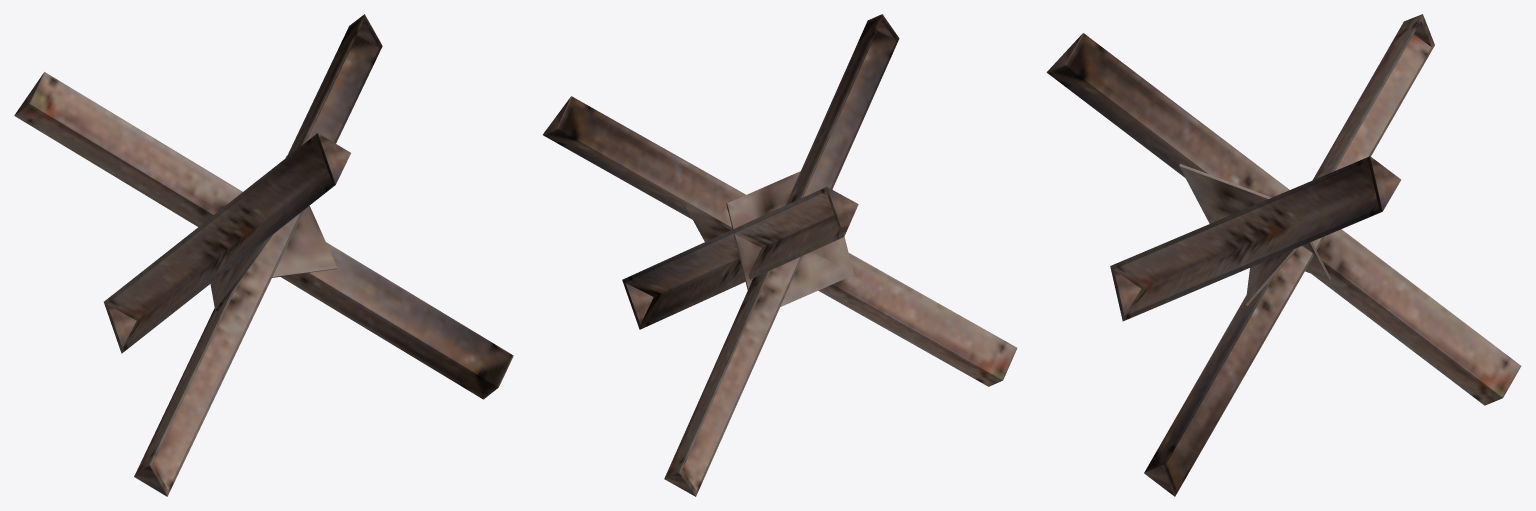
File: Training_Baricade.fbx
3 views of the same model, side by side, from view 1: azimuth 30°, elevation 25°; view 2: azimuth 150°, elevation 25°; view 3: azimuth 270°, elevation 25° (orthographic). The views are drawn at different scales.
Visible parts, largest first — view 1: Object01, Object02, Object03, Object00, Object05; view 2: Object02, Object03, Object01, Object04, Object05, Object00; view 3: Object03, Object02, Object01, Object05, Object00.
Part boxes in pixels (bbox=[...]): Object01: bbox=[14, 72, 513, 399]; Object02: bbox=[134, 14, 382, 496]; Object03: bbox=[104, 133, 350, 353]; Object00: bbox=[272, 156, 337, 277]; Object05: bbox=[215, 234, 273, 311]; Object02: bbox=[543, 96, 1017, 386]; Object03: bbox=[664, 14, 899, 496]; Object01: bbox=[622, 187, 858, 329]; Object04: bbox=[726, 203, 853, 306]; Object05: bbox=[727, 171, 853, 274]; Object00: bbox=[684, 201, 732, 241]; Object03: bbox=[1046, 33, 1521, 405]; Object02: bbox=[1110, 156, 1401, 321]; Object01: bbox=[1144, 14, 1434, 496]; Object05: bbox=[1179, 164, 1271, 223]; Object00: bbox=[1245, 247, 1298, 305].
Bounding box in the file's own units: 161 × 144 × 166.
